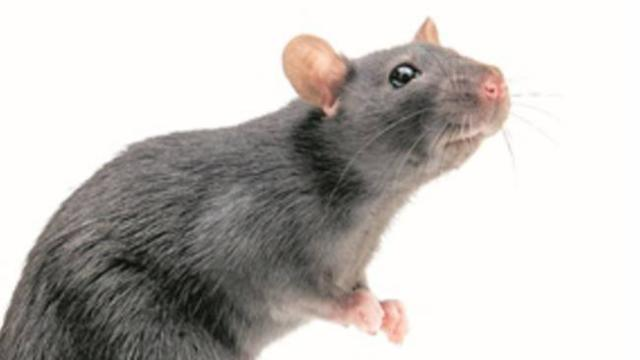rat: (5, 10, 537, 346)
